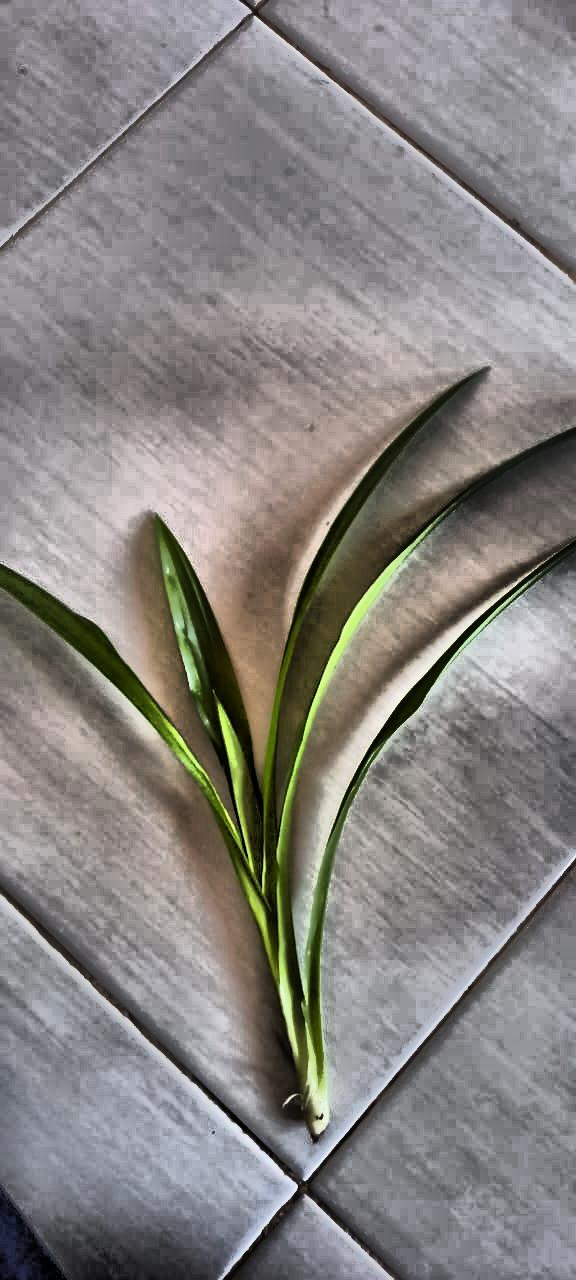daun pandan: (0, 375, 575, 1140)
